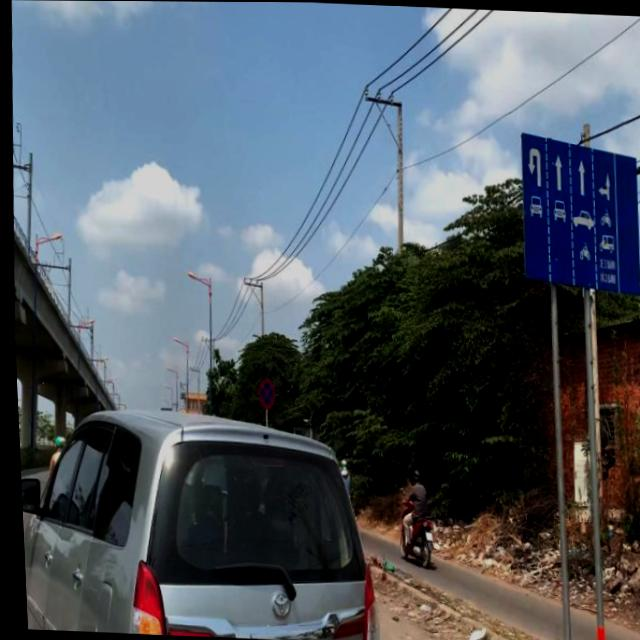Cam dung xe va do xe: (254, 376, 273, 409)
